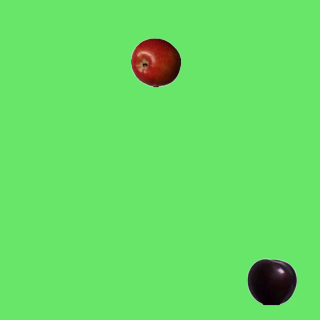Apple Braeburn: (130, 37, 180, 87)
Cherry Wax Black: (246, 256, 296, 306)
